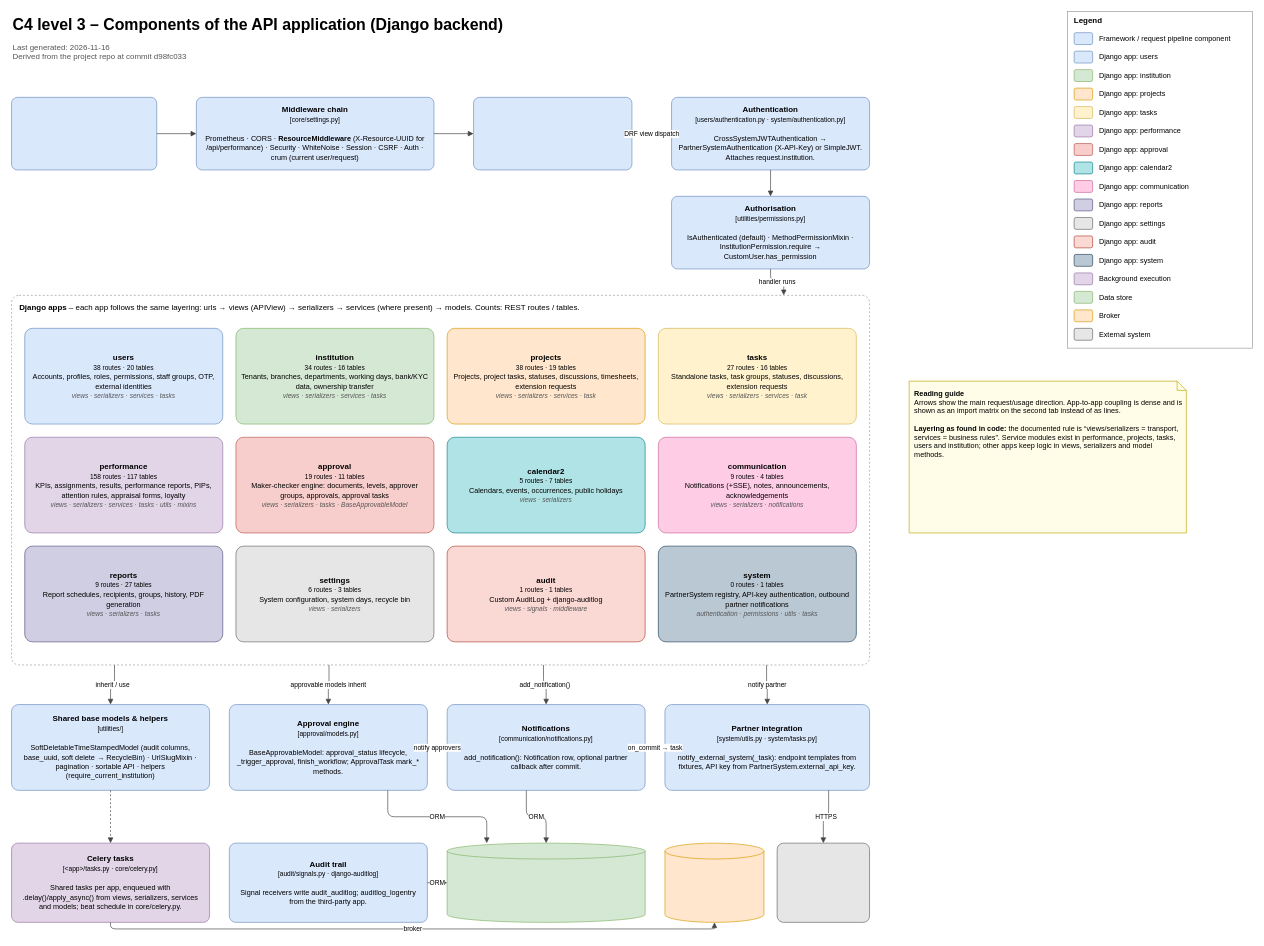
Image size: 1264x946. Some labels were removed from this diagram. Here are the shapes that lost their labels. From the top down, the centre of each, then its label:
At (x=84, y=133): "ASGI entry [core/asgi.py · Daphne] ProtocolTypeRouter – HTTP only".
At (x=552, y=133): "URL router [core/urls.py] /api/<app>/ → each app's urls.py · /admin · /metrics".
At (x=545, y=882): "PostgreSQL [Django ORM]".
At (x=714, y=882): "Redis [broker]".
At (x=823, y=882): "Partner platform [external]".
